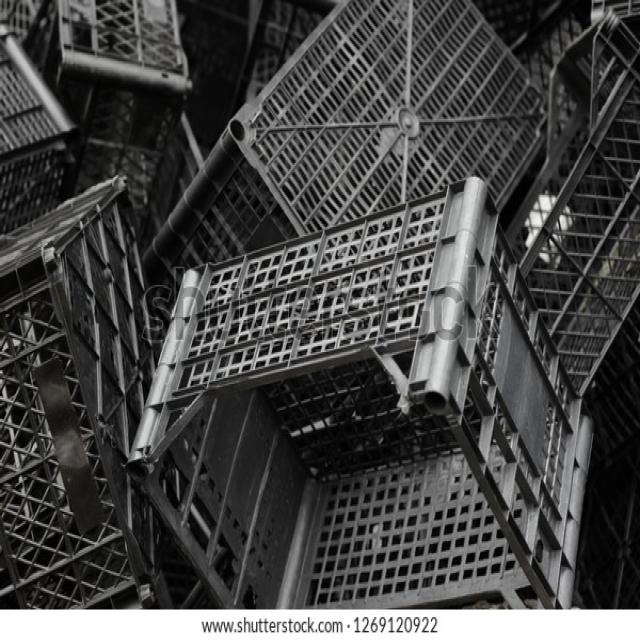basket: (129, 178, 591, 610), (0, 175, 170, 619), (0, 24, 74, 232)
